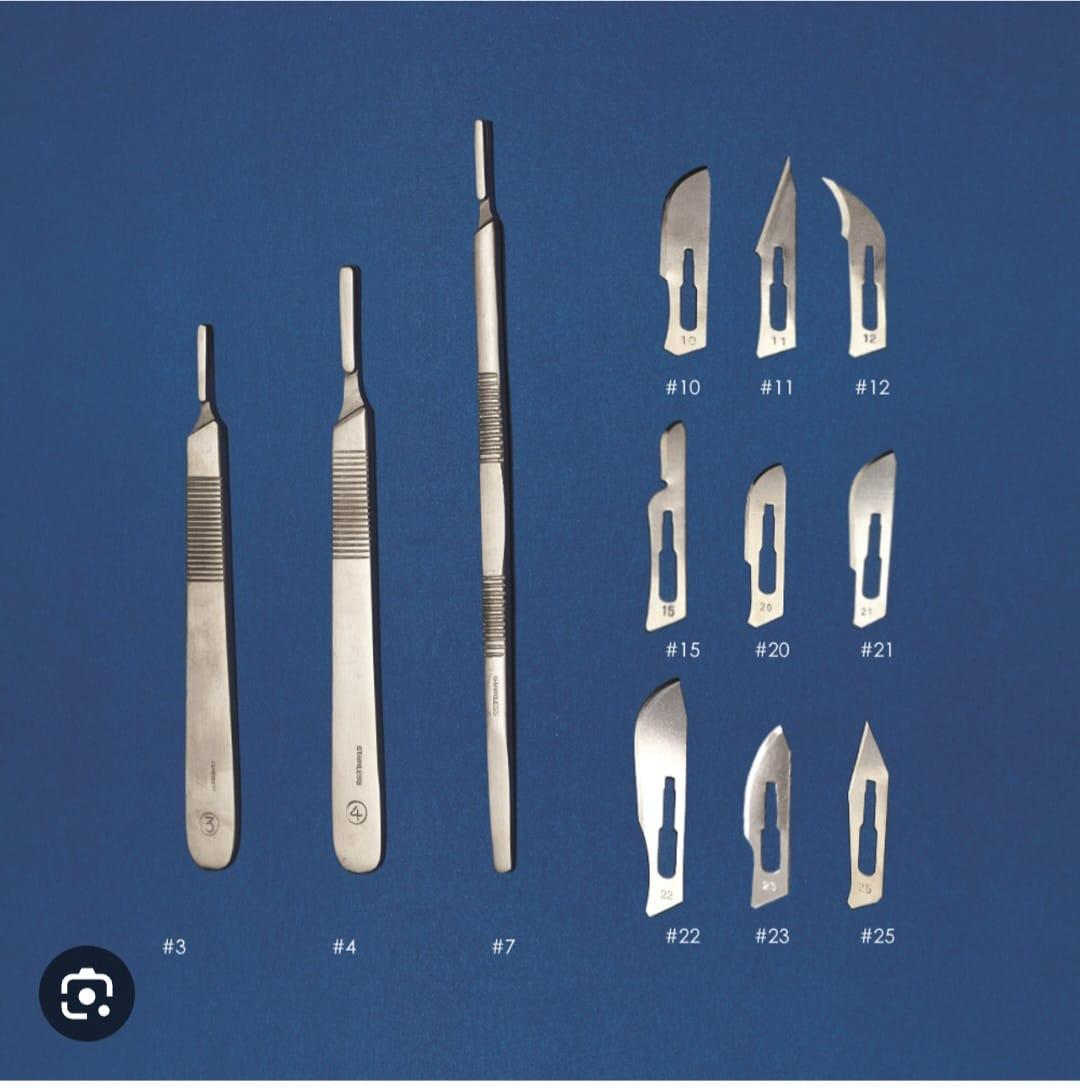Knife Blade: (597, 672, 707, 925), (820, 170, 920, 362), (638, 147, 727, 362), (832, 450, 920, 633), (833, 717, 908, 910), (732, 717, 802, 922), (752, 155, 812, 362), (738, 458, 803, 632)
Knife Handle: (297, 262, 433, 882), (148, 307, 268, 878)
